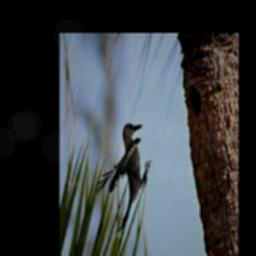Woodpecker: (95, 124, 151, 232)
